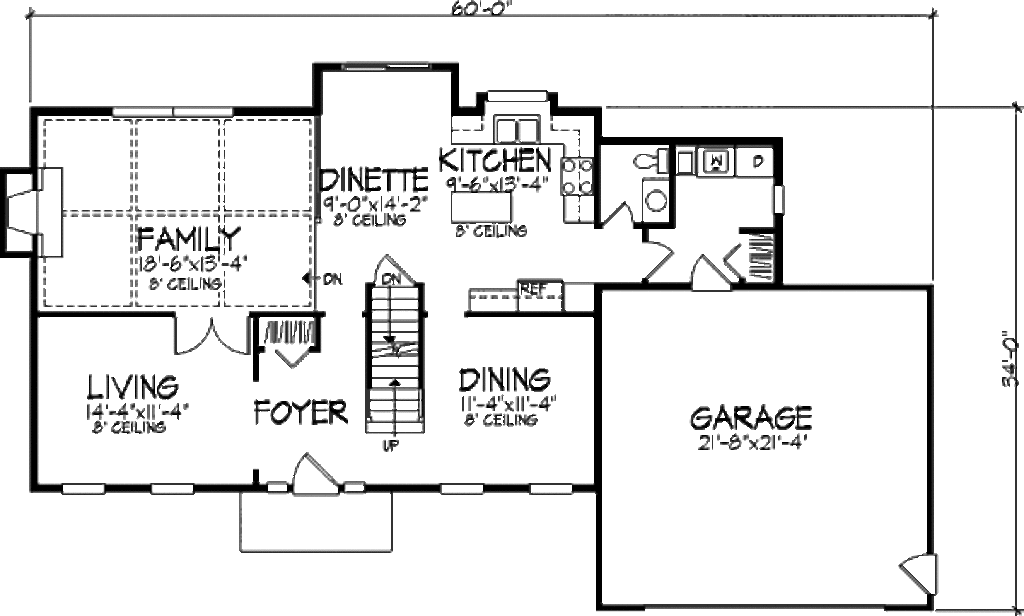door: (170, 311, 251, 356), (289, 453, 340, 499), (896, 550, 947, 595), (633, 234, 674, 286), (688, 254, 733, 297), (599, 197, 634, 229)
kitchen_bar: (448, 185, 521, 226)
large_sink: (630, 144, 673, 177)
small_sink: (643, 176, 674, 226)
stairs: (360, 252, 433, 454)
twin_sink: (489, 112, 542, 146)
windows: (106, 101, 235, 122), (337, 58, 435, 78), (482, 86, 549, 106), (54, 480, 109, 501), (146, 480, 197, 501), (434, 479, 487, 499), (522, 481, 580, 497)
